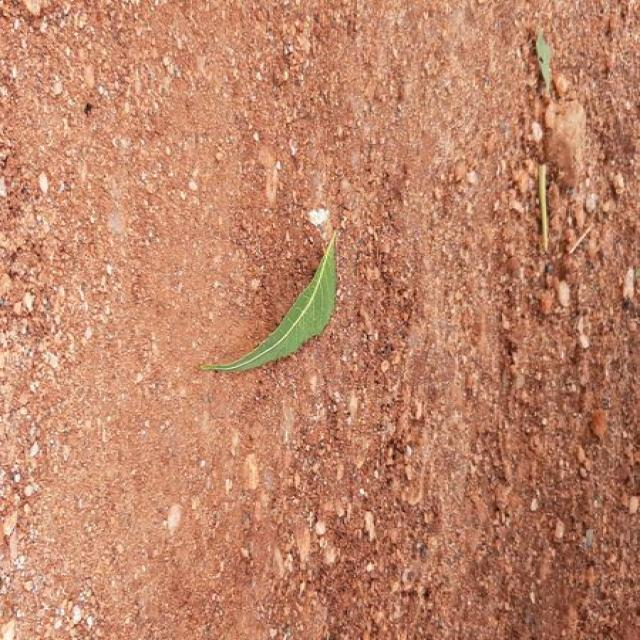neem: (203, 234, 338, 371)
